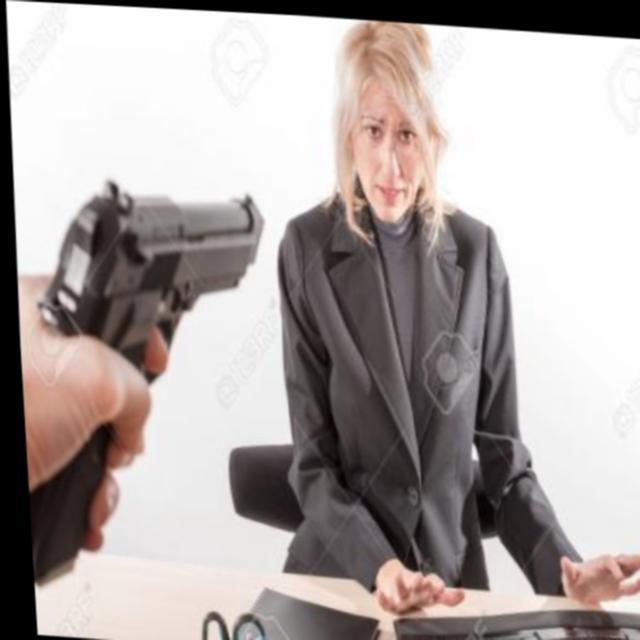weapon: (8, 165, 300, 614)
